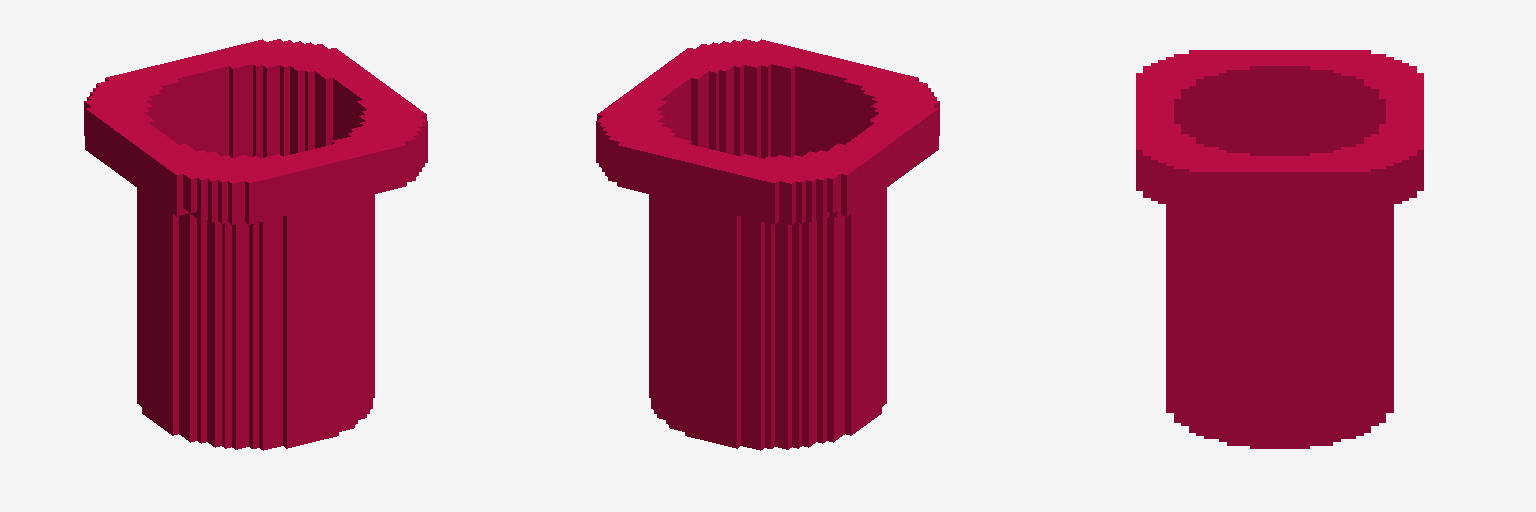
3 renders of one model, left to right at view 1: azimuth 30°, elevation 25°; view 2: azimuth 150°, elevation 25°; view 3: azimuth 270°, elevation 25°, orthographic.
Visible parts, largest first — view 1: object 1; view 2: object 1; view 3: object 1.
Part boxes in pixels (x1,y1,x2,y2): object 1: (84, 39, 427, 450); object 1: (596, 39, 939, 450); object 1: (1136, 50, 1423, 448).
Bounding box in the file's own units: 3.8 × 4.2 × 3.8.
1 materials, 1 textured.